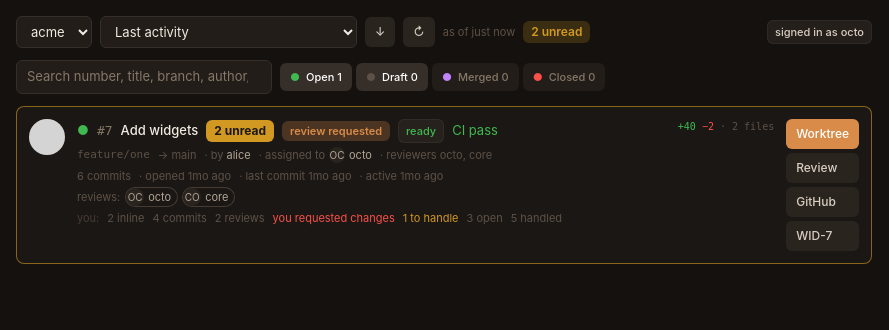
it: every pull request can reach a worktree › reports why a worktree could not be made
Check: the text "Add widgets" is shown, box [120,121,198,140]
Click the button "Worktree": (823, 134) [786,118,859,148]
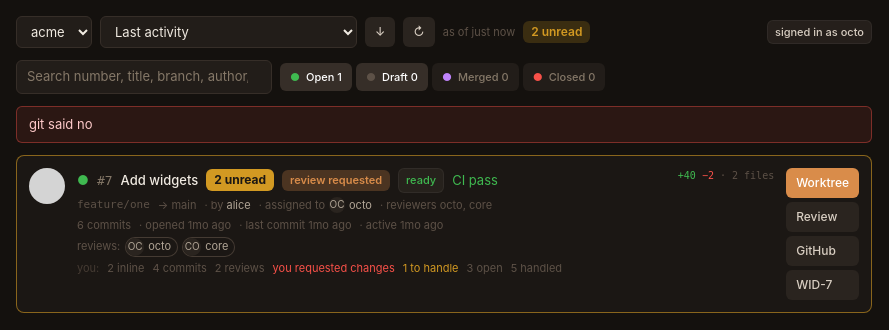
Check: the text "git said no" is shown, box [16,106,872,143]
